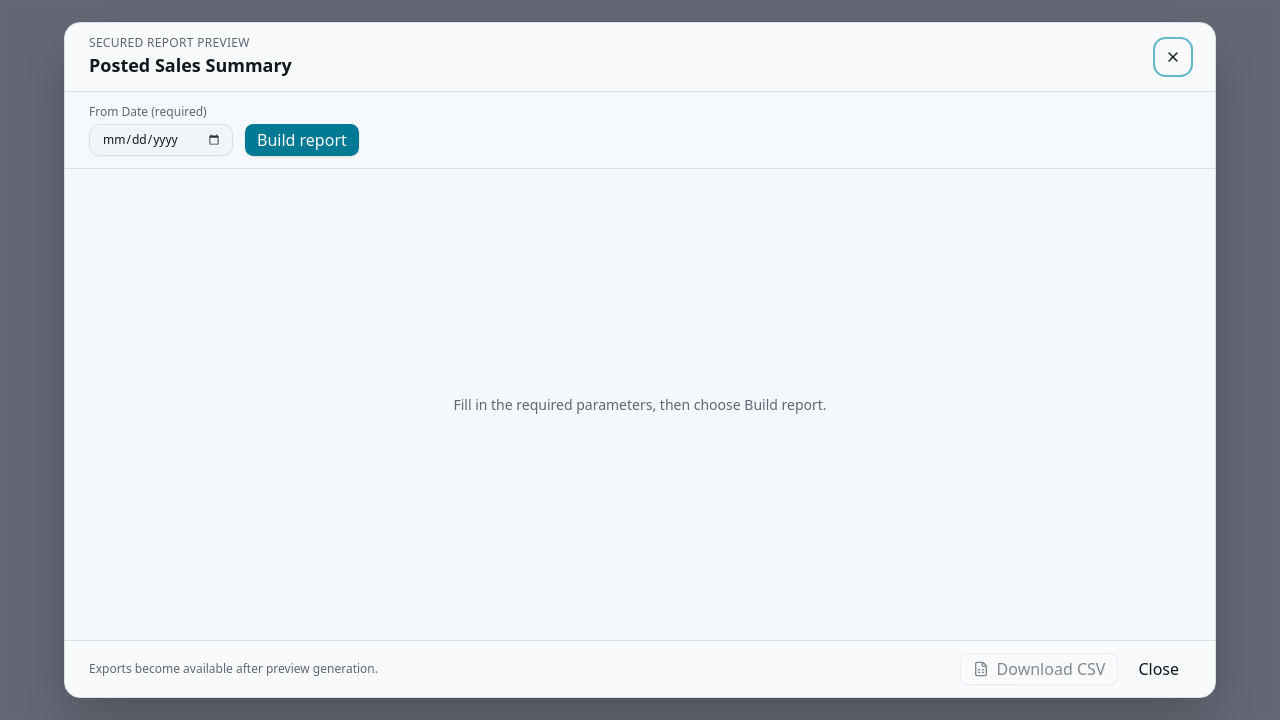
Test: a parameterized report preview › waits for required parameters instead of building a refusal
This screenshot has width=1280, height=720.
Expected: the text "Fill in the required parameters, then choose Build report." is shown, [453,394,827,414]
Expected: the text "From Date (required)" is shown, [89,103,207,120]
Type "2026-08-01" into the date field labelled "From Date (required)" at coordinates (161, 140), box [89,124,233,156]
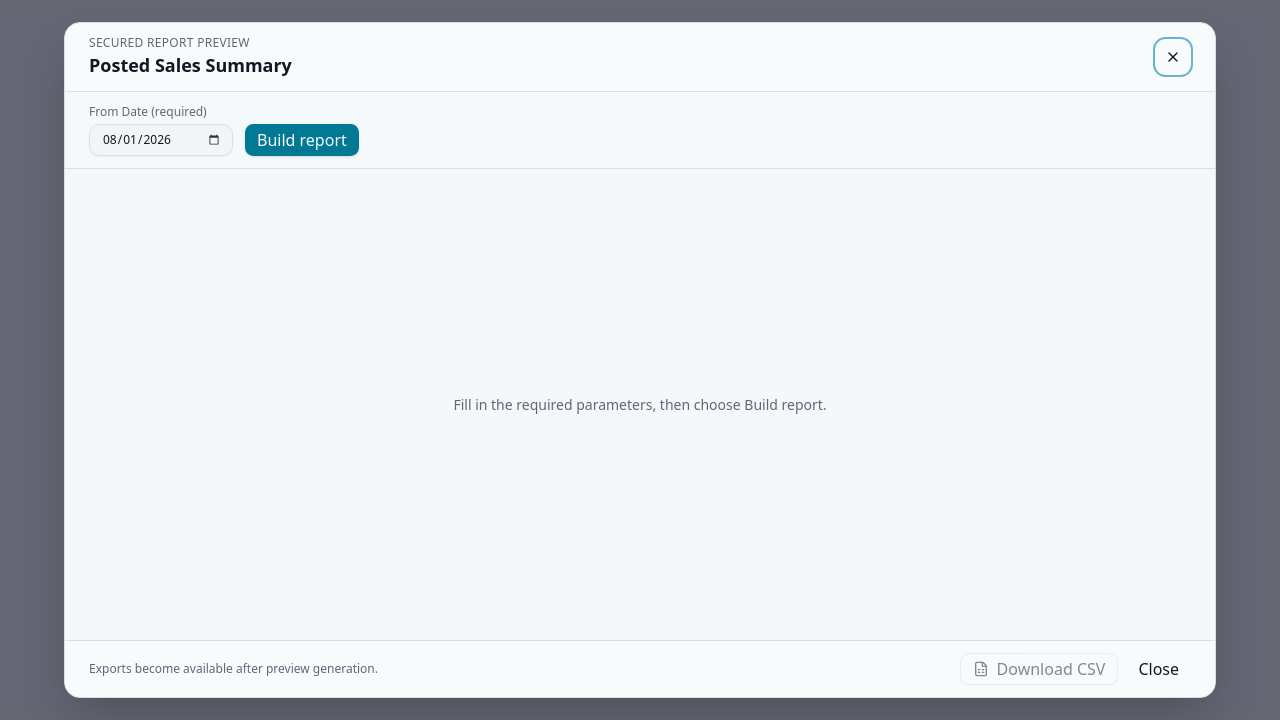
Click the button "Build report" at coordinates (302, 140), box [245,124,359,156]
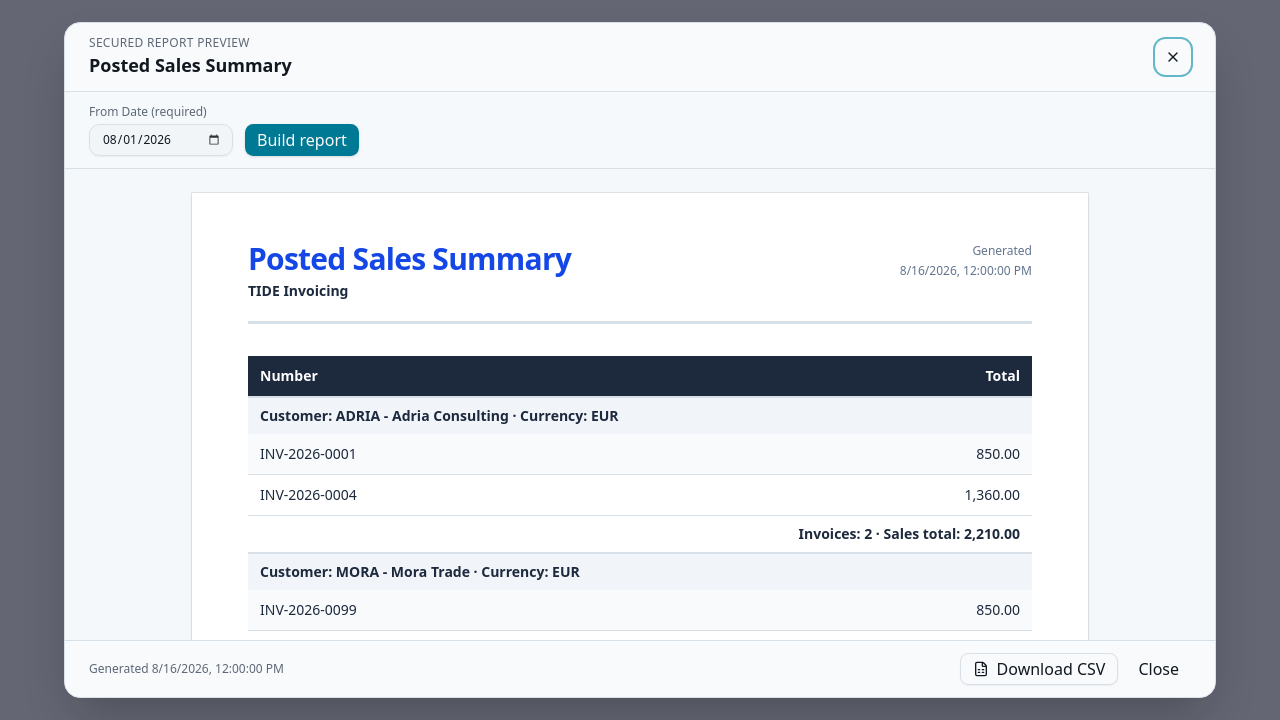
Expected: the text "INV-2026-0099" is shown, [248,590,721,630]
